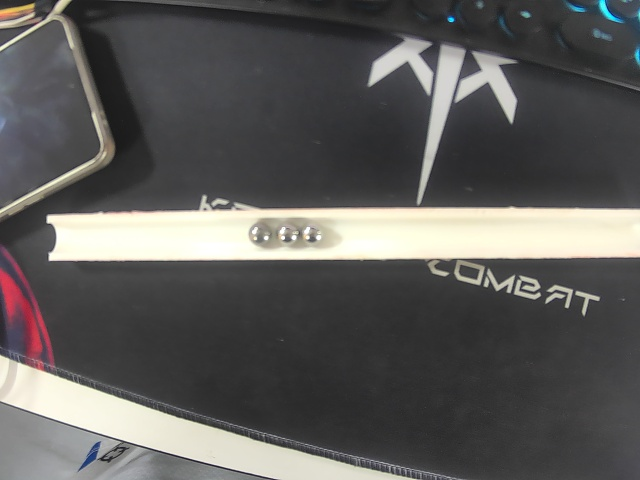steelball: (248, 222, 273, 245), (276, 223, 300, 244), (300, 224, 322, 245)
